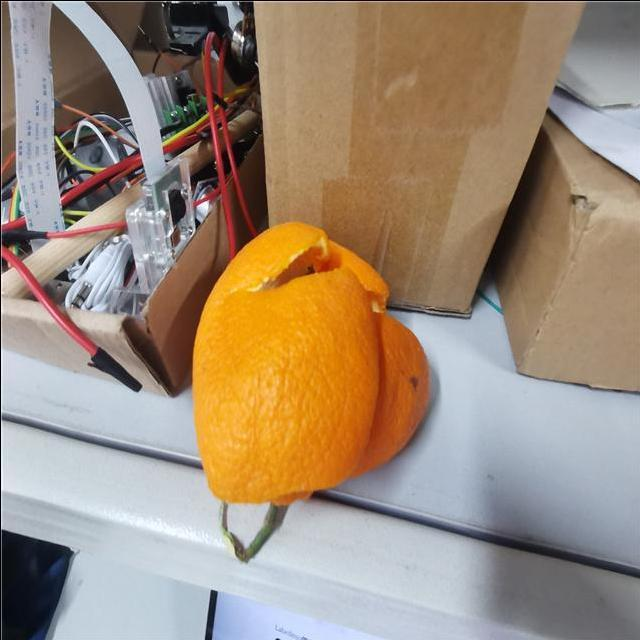orange peel: (191, 220, 431, 506)
